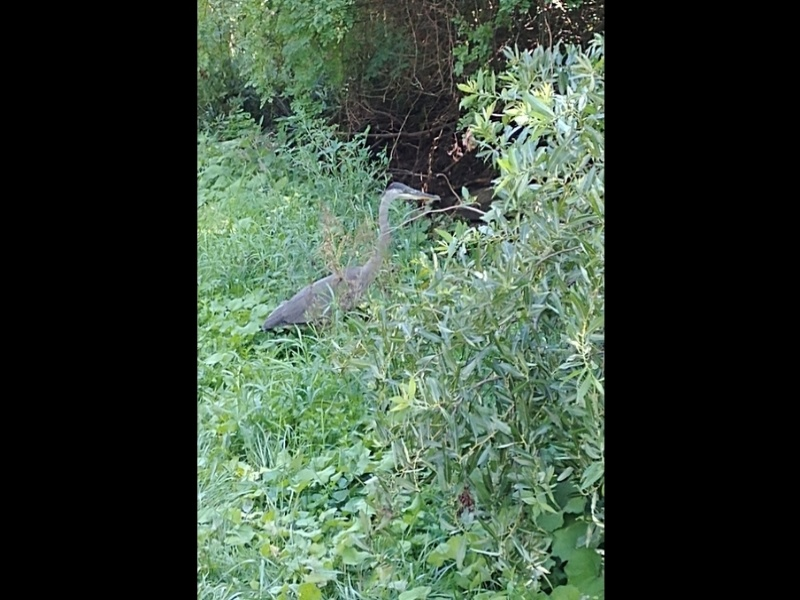heron: (259, 180, 439, 346)
